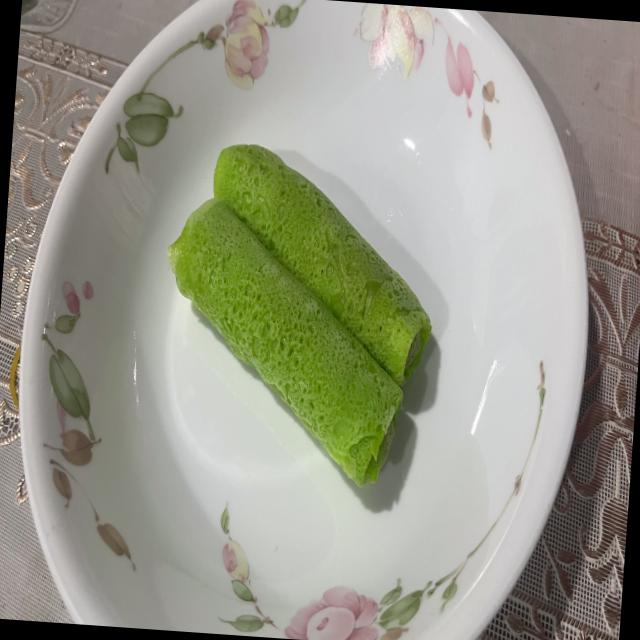Kuih-Ketayap: (168, 197, 402, 486), (213, 144, 431, 384)
